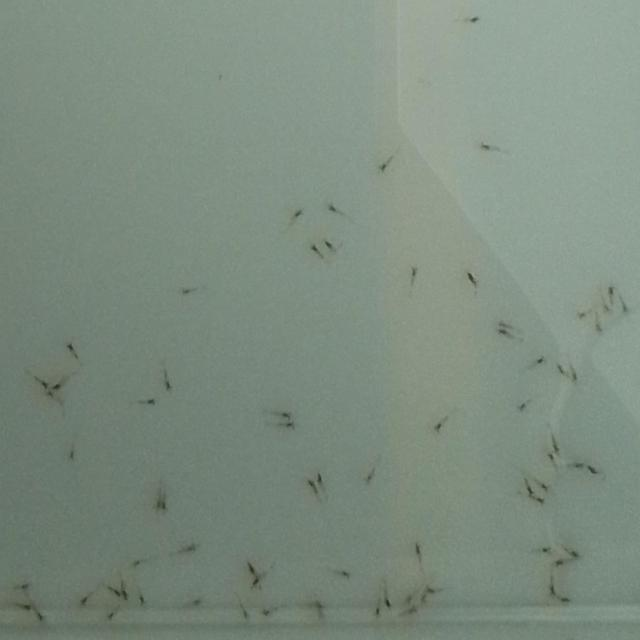shrimp-seed: (416, 596, 431, 610), (412, 542, 425, 558), (496, 319, 512, 332), (183, 543, 200, 555), (566, 548, 582, 560), (402, 593, 416, 606), (423, 585, 438, 597), (376, 161, 388, 176), (407, 605, 421, 617), (558, 594, 572, 606), (464, 270, 476, 284), (547, 582, 558, 597), (384, 596, 394, 612), (250, 577, 262, 590), (246, 563, 258, 576), (340, 570, 353, 582), (38, 379, 50, 392), (78, 596, 90, 608), (260, 608, 272, 620), (553, 558, 565, 570), (540, 545, 552, 557), (284, 420, 296, 432), (280, 411, 292, 423), (534, 496, 546, 508), (535, 354, 547, 366), (179, 286, 191, 298), (292, 210, 304, 222), (478, 140, 490, 152), (468, 14, 480, 26), (119, 588, 129, 602), (516, 401, 526, 415), (18, 582, 30, 593), (20, 602, 31, 614), (130, 558, 141, 570), (52, 381, 64, 392), (315, 472, 326, 484), (433, 422, 444, 434), (496, 327, 508, 338), (575, 310, 586, 322), (327, 202, 338, 214), (306, 478, 316, 491), (551, 441, 561, 454), (573, 461, 584, 472), (35, 612, 45, 624), (111, 588, 121, 600), (192, 596, 202, 608), (240, 610, 250, 622), (144, 398, 156, 408), (162, 381, 172, 393), (364, 472, 374, 484), (540, 482, 550, 494), (592, 323, 602, 335), (310, 242, 320, 254), (372, 606, 383, 616), (46, 389, 56, 400), (556, 364, 565, 376), (607, 286, 616, 298), (621, 303, 630, 315), (68, 451, 76, 464), (105, 612, 115, 622), (138, 594, 148, 604), (65, 342, 75, 352), (546, 452, 556, 462), (588, 466, 598, 476), (601, 304, 611, 314), (160, 500, 168, 512), (525, 486, 533, 498), (571, 372, 579, 384), (324, 241, 334, 250), (154, 498, 160, 512), (411, 267, 418, 278)
